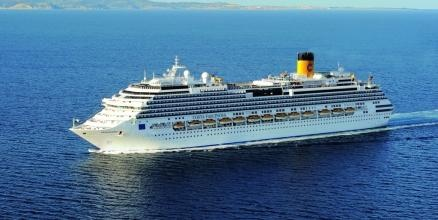youlun: (67, 50, 397, 152)
